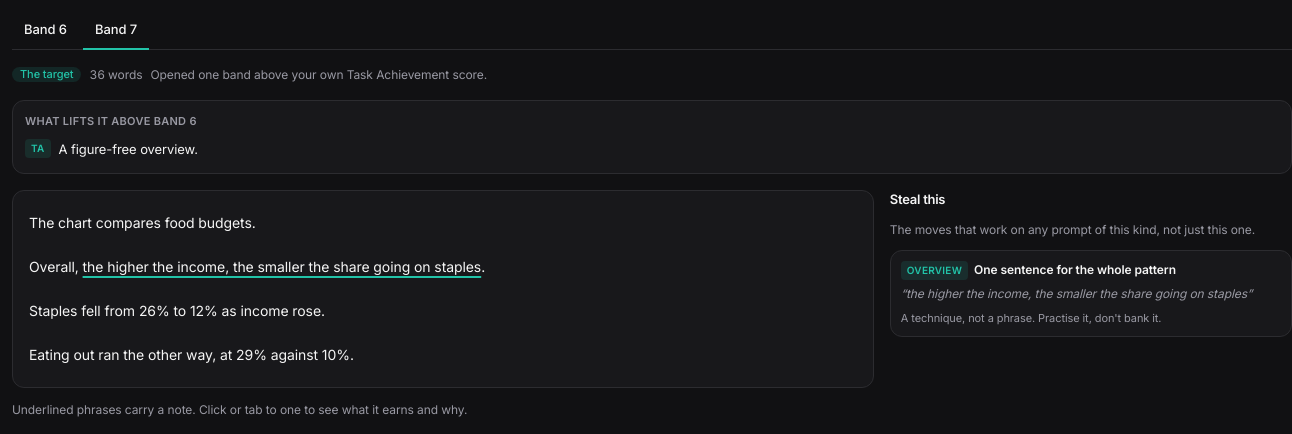
the band ladder › shows what caps the band-6 answer rather than what lifts it
Step 1. Click the tab "Band 6" → (45, 31), box [12, 12, 79, 50]
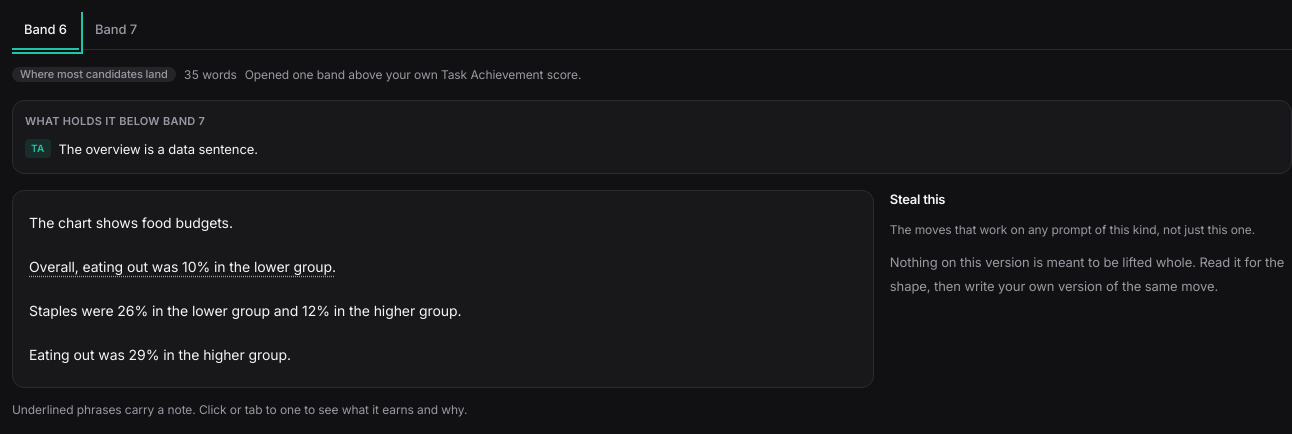
Check: the text "What holds it below band 7" is shown, box [25, 114, 205, 128]
Check: the text "The overview is a data sentence." is shown, box [58, 137, 258, 161]
